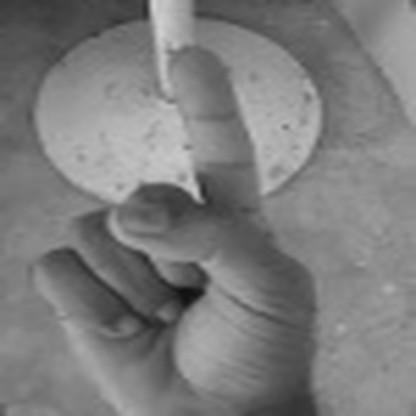d: (19, 38, 324, 403)
